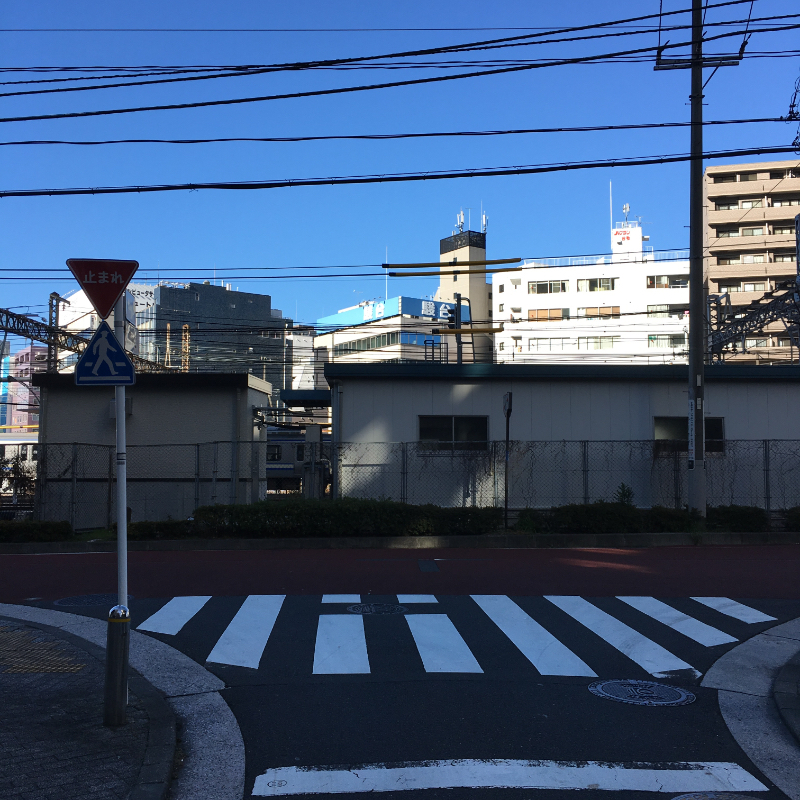STOP: (62, 256, 141, 321)
